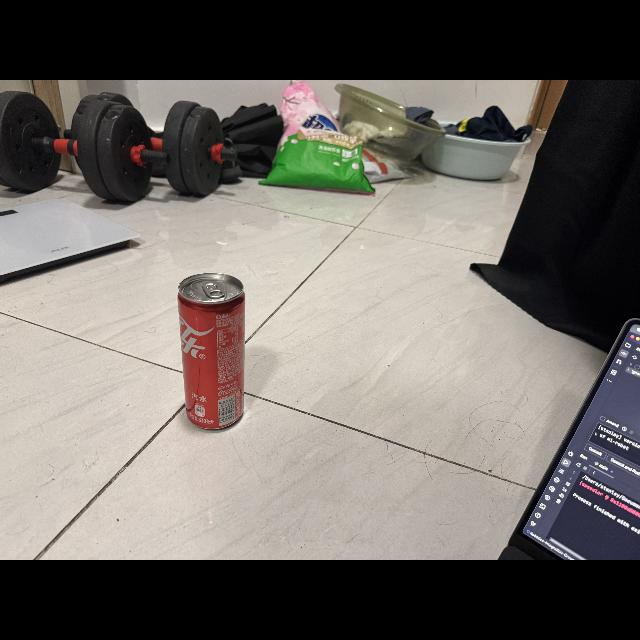Cola: (168, 270, 255, 440)
